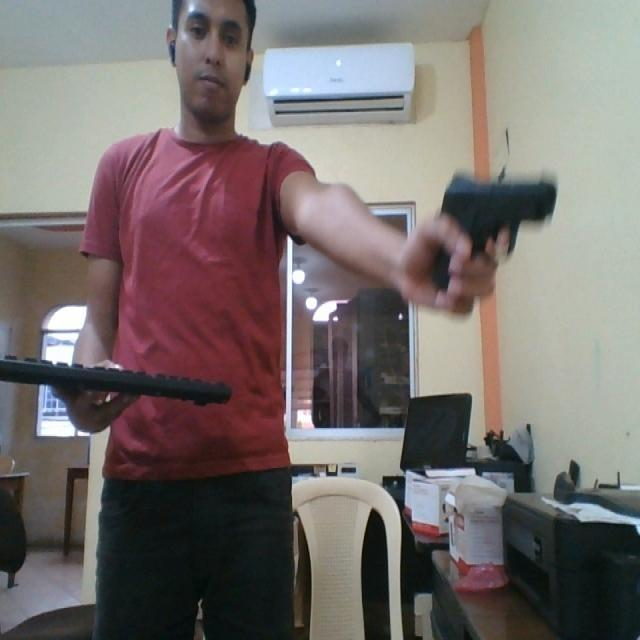weapon: (424, 171, 559, 299)
